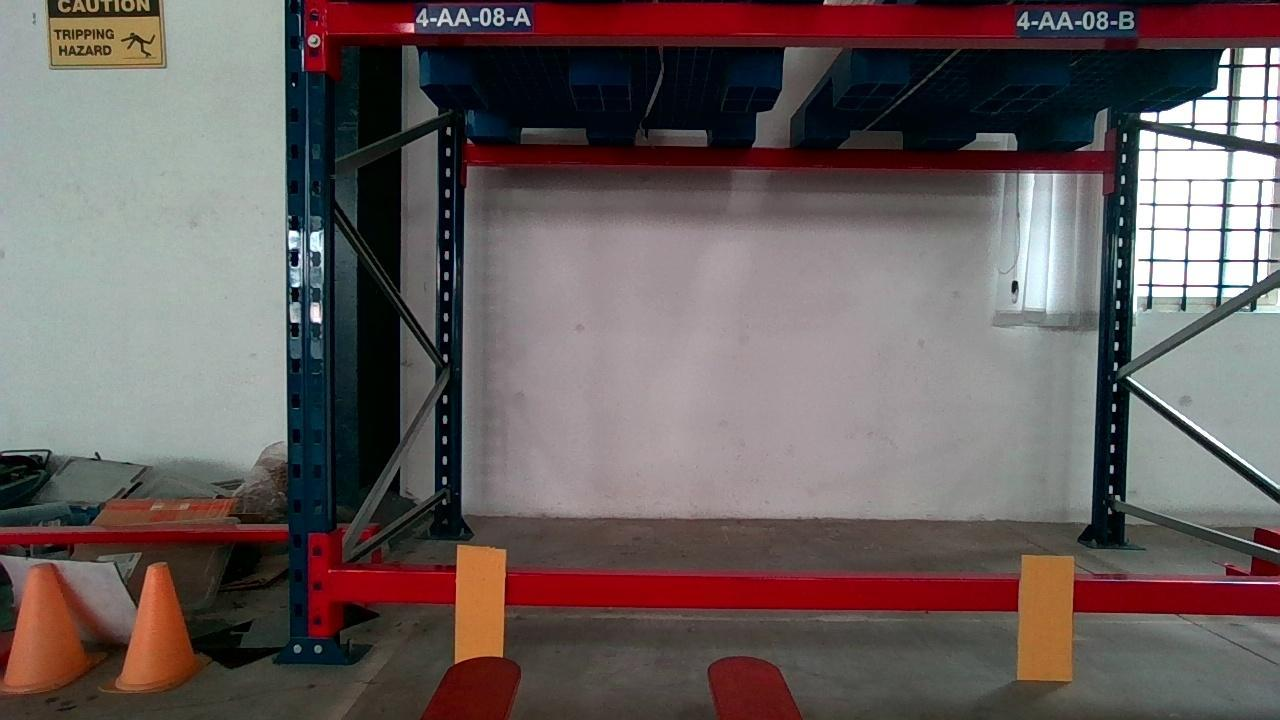h_rack: (323, 569, 1280, 615), (325, 0, 1278, 42)
orange_strip: (1015, 554, 1073, 681), (458, 543, 509, 662)
